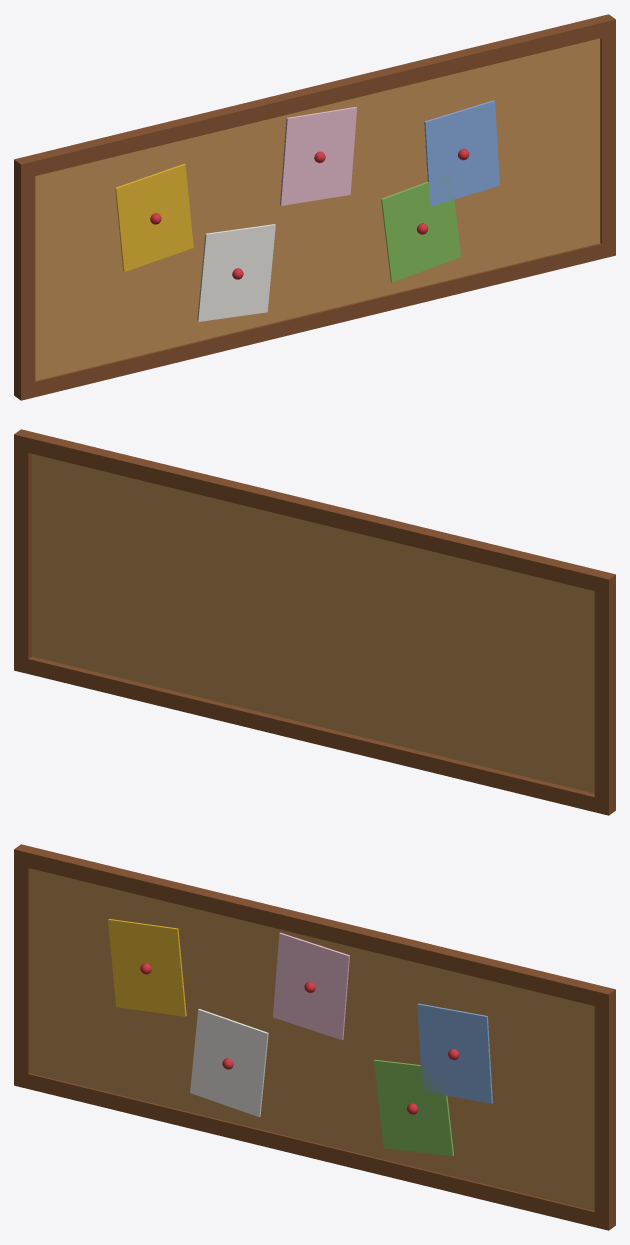
File: notice_board.glb
The picture shows the model from 3 angles, top to bottom: view 1: azimuth 30°, elevation 25°; view 2: azimuth 150°, elevation 25°; view 3: azimuth 330°, elevation 25°; orthographic projection.
Parts seen in each view (by area): view 1: root; view 2: root; view 3: root.
Boxes of the visible parts, x1,y1,x2,y2 form: root: [14, 14, 615, 400]; root: [14, 429, 615, 815]; root: [14, 844, 615, 1230].
Bounding box in the file's own units: 2.9 × 1.1 × 0.095.
